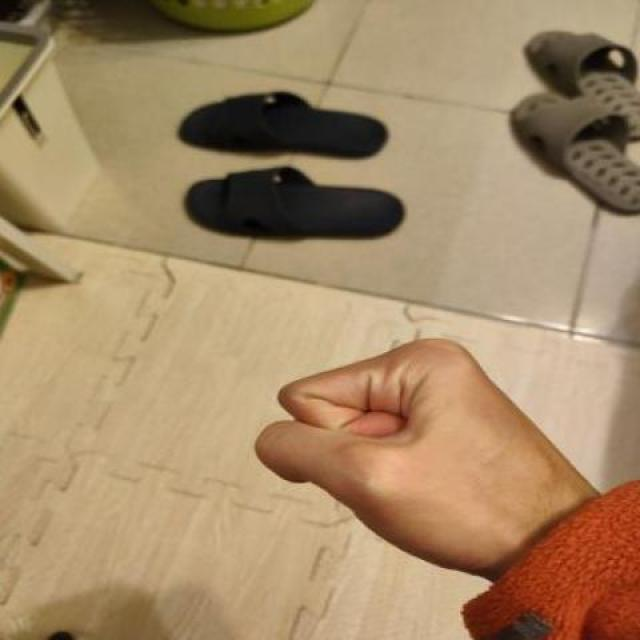Closed Hand: (248, 336, 604, 592)
